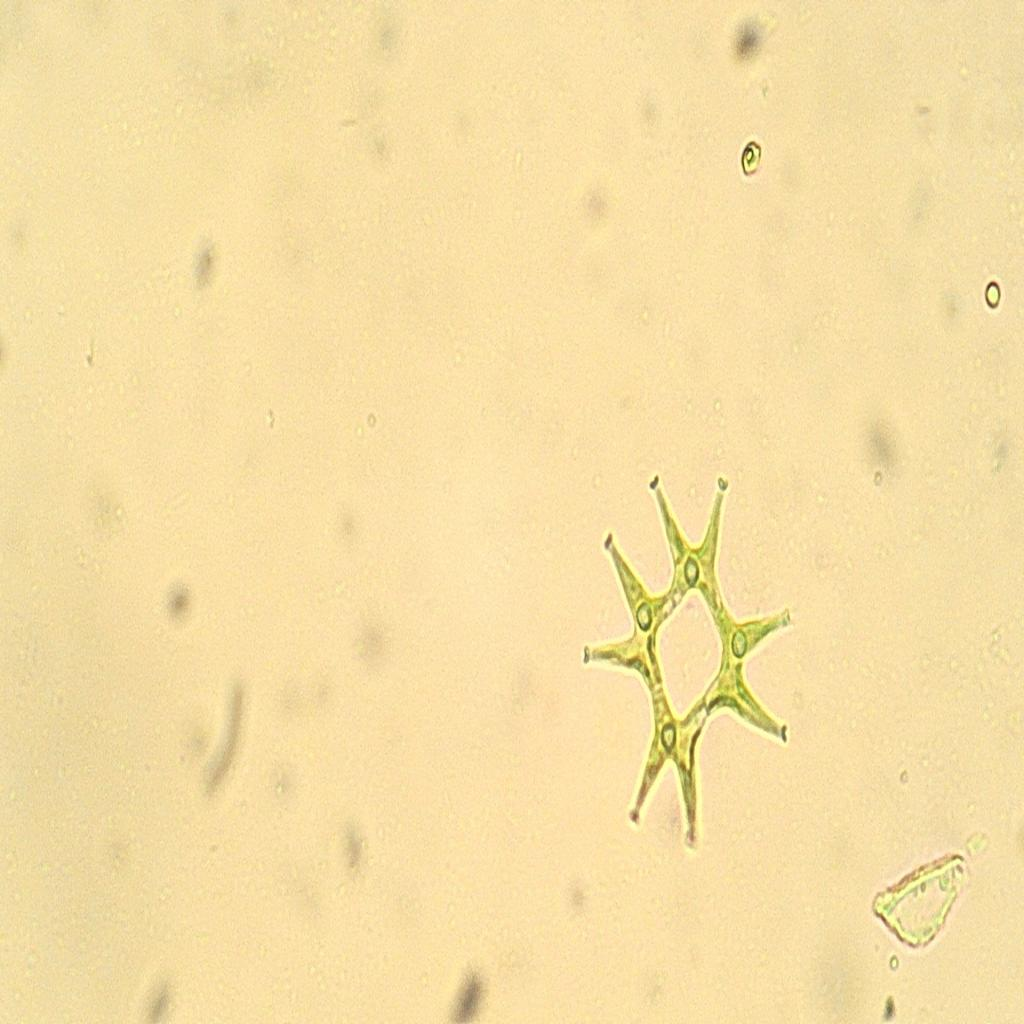Pediastrum_CO: (574, 450, 798, 868)
